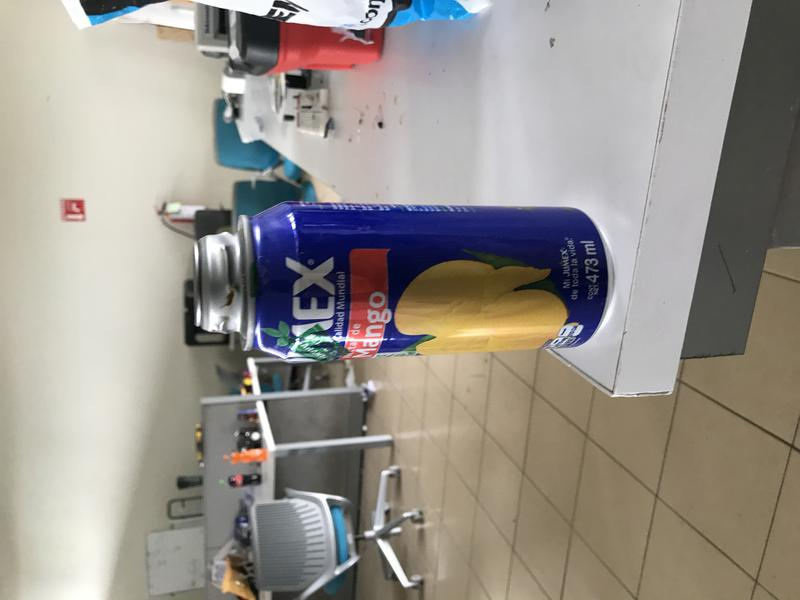jumex_botella: (192, 199, 616, 364)
